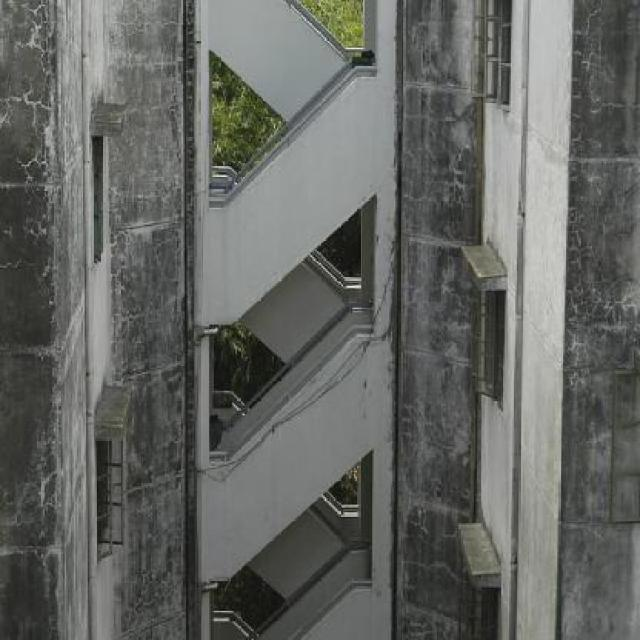stair: (189, 2, 400, 640)
